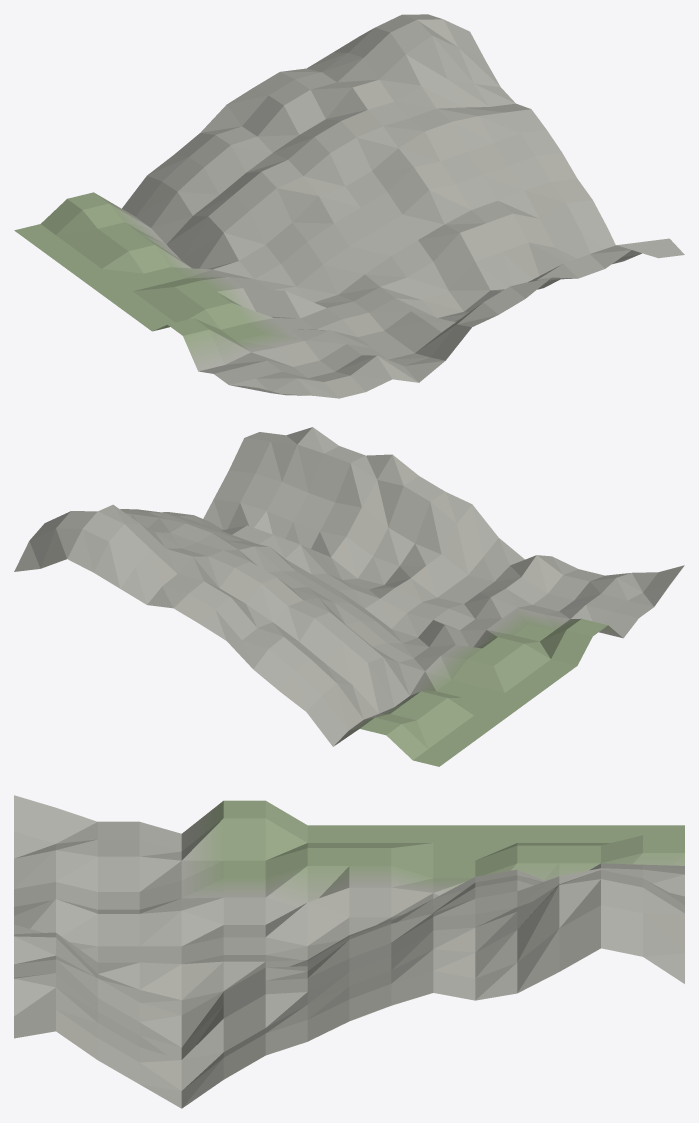
3 renders of one model, top to bottom at view 1: azimuth 30°, elevation 25°; view 2: azimuth 150°, elevation 25°; view 3: azimuth 270°, elevation 25°, orthographic. The views are drawn at different scales.
Bounding box in the file's own units: 32 × 11.06 × 32.
